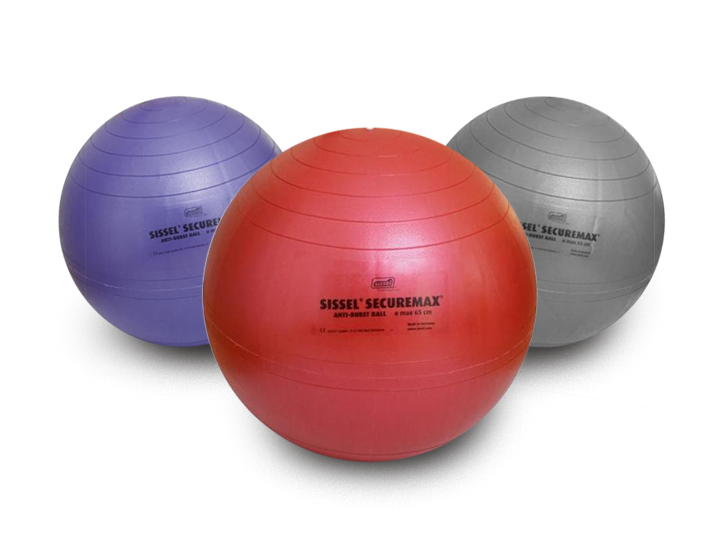red ball: (200, 126, 543, 468)
